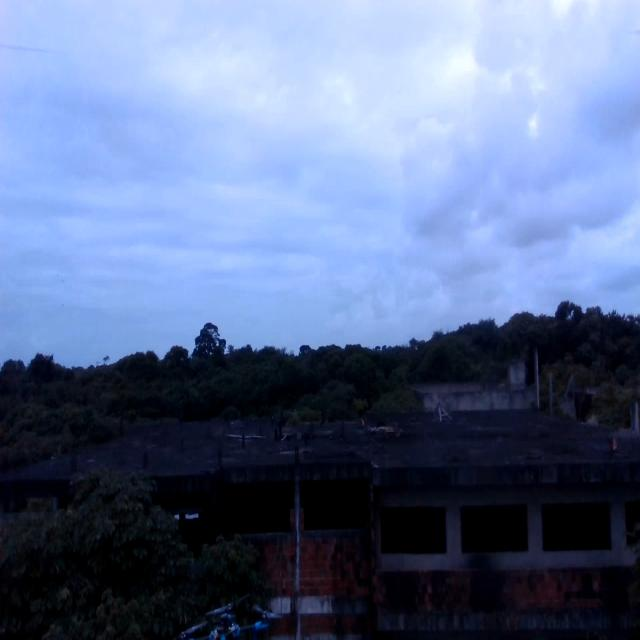-uav-: (169, 586, 293, 640)
